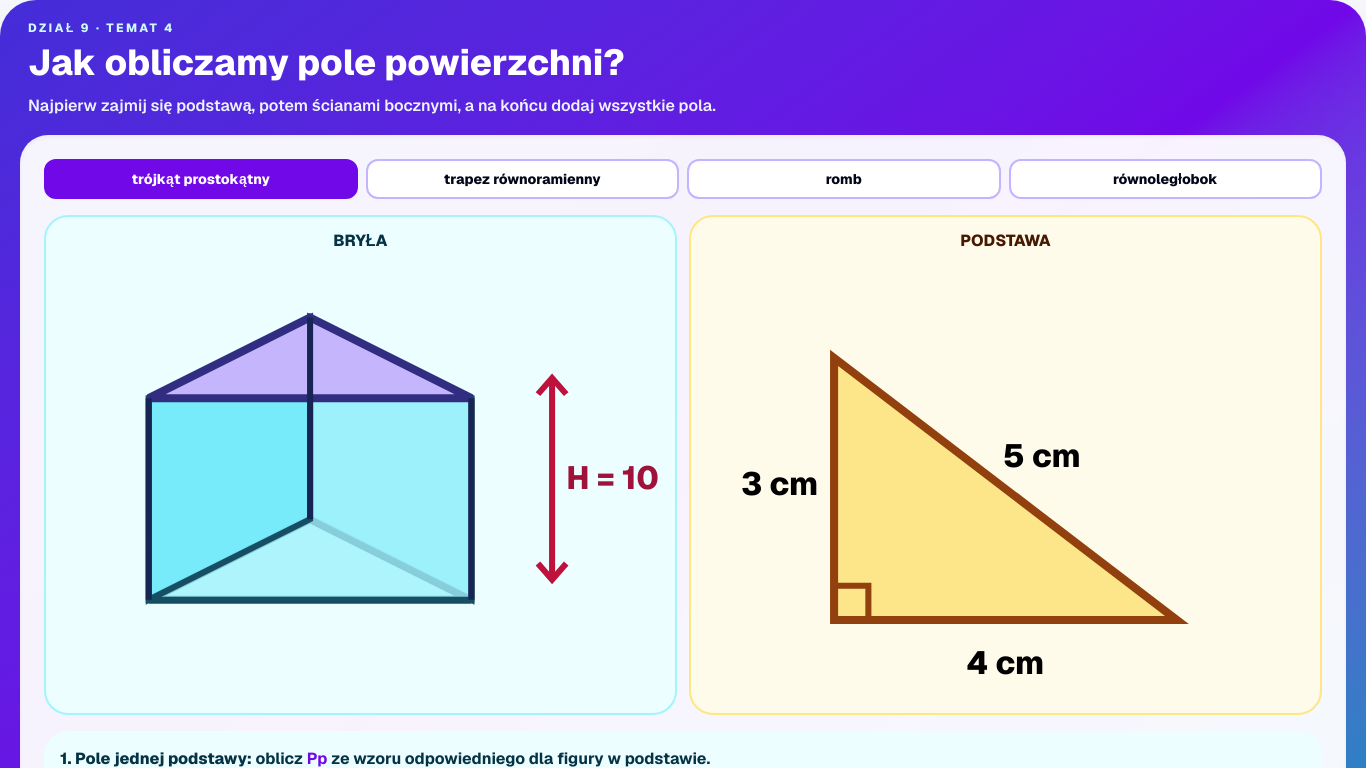
Test: PrismSurfaceAreaLessonLab › pokazuje sposób obliczania Pp, Pb i Pc oraz różne podstawy
This screenshot has width=1366, height=768.
Click the button "trapez równoramienny" at coordinates (522, 179), box top-left (366, 159), bottom-right (679, 199)
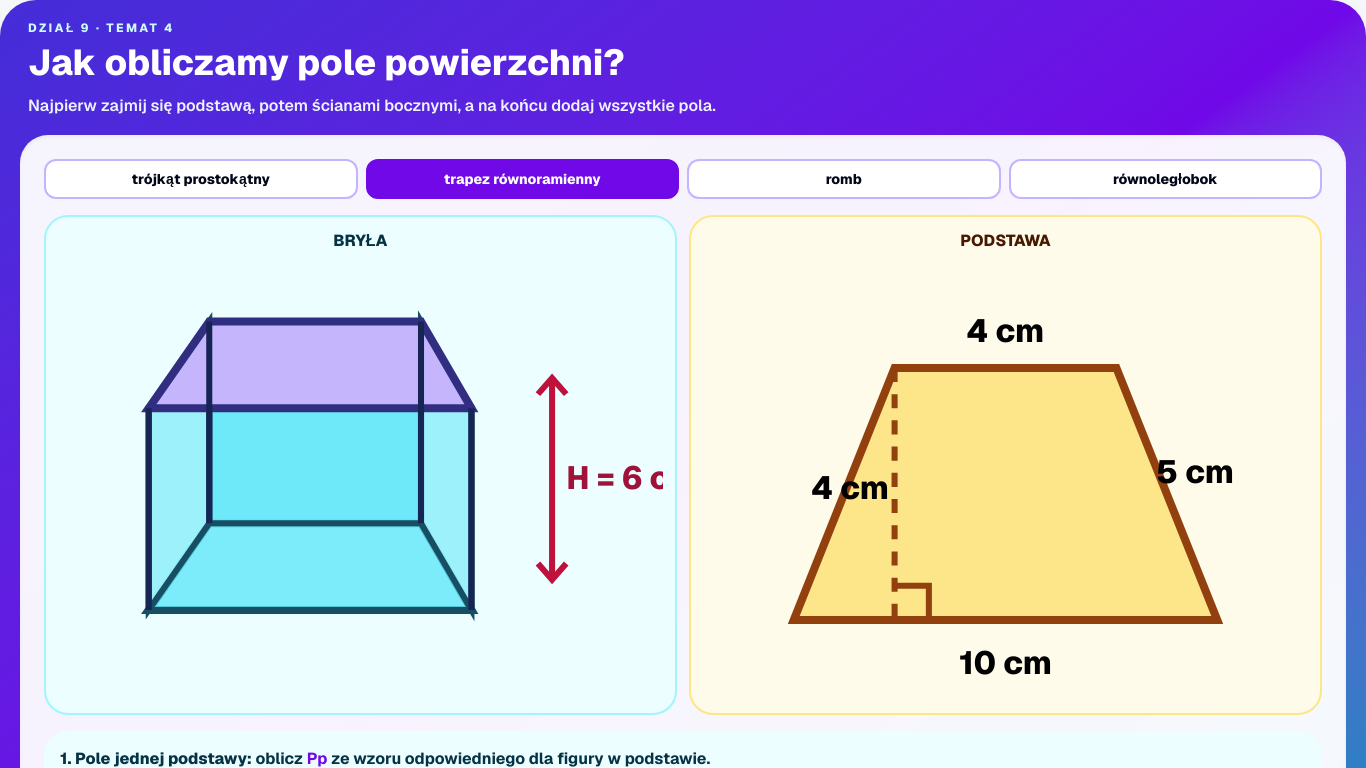
Expected: the picture named "podstawie: trapez równoramienny" is shown
